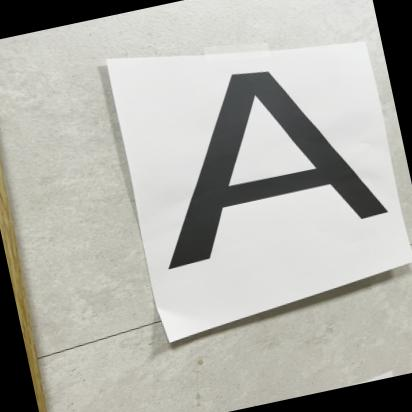seat: (120, 32, 408, 292)
